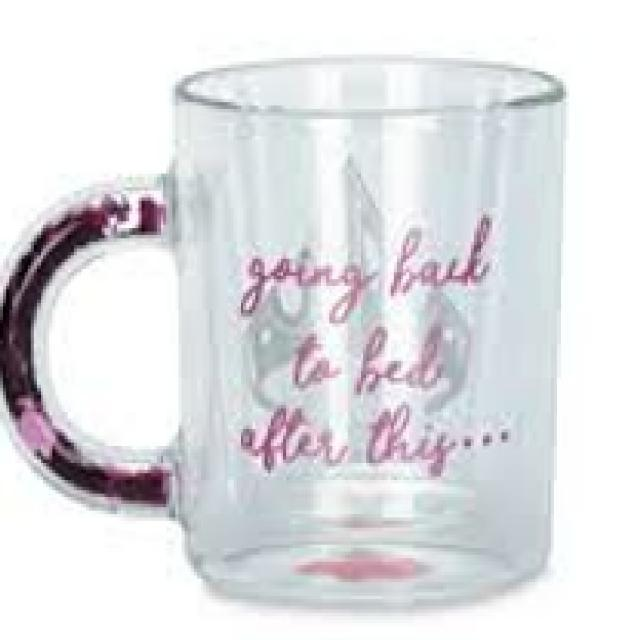taza: (0, 54, 615, 606)
